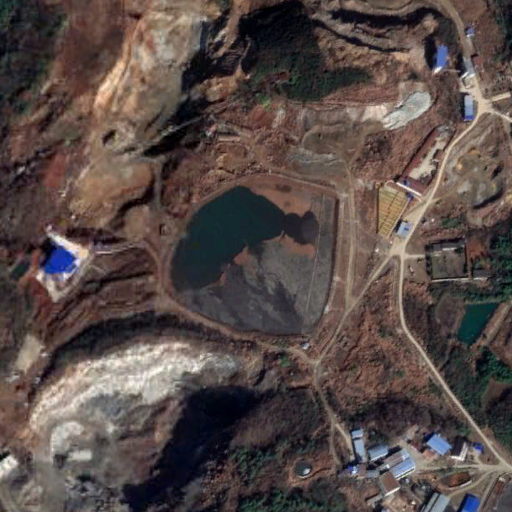tp: (158, 174, 337, 338)
